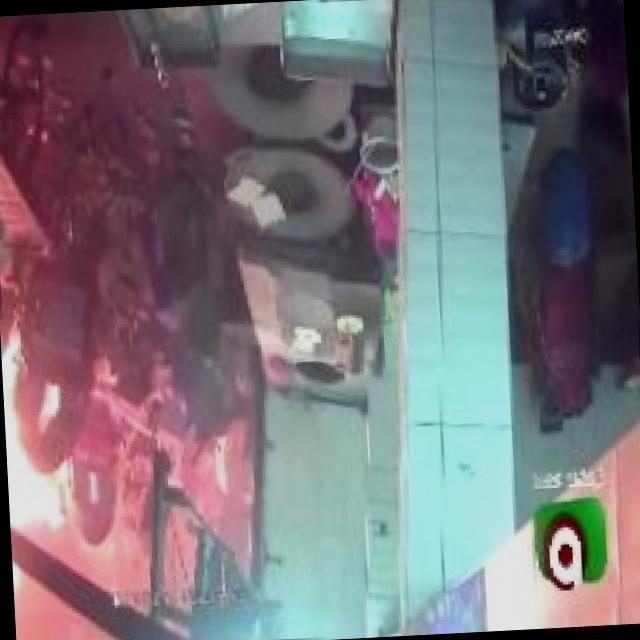fire: (5, 402, 130, 624)
